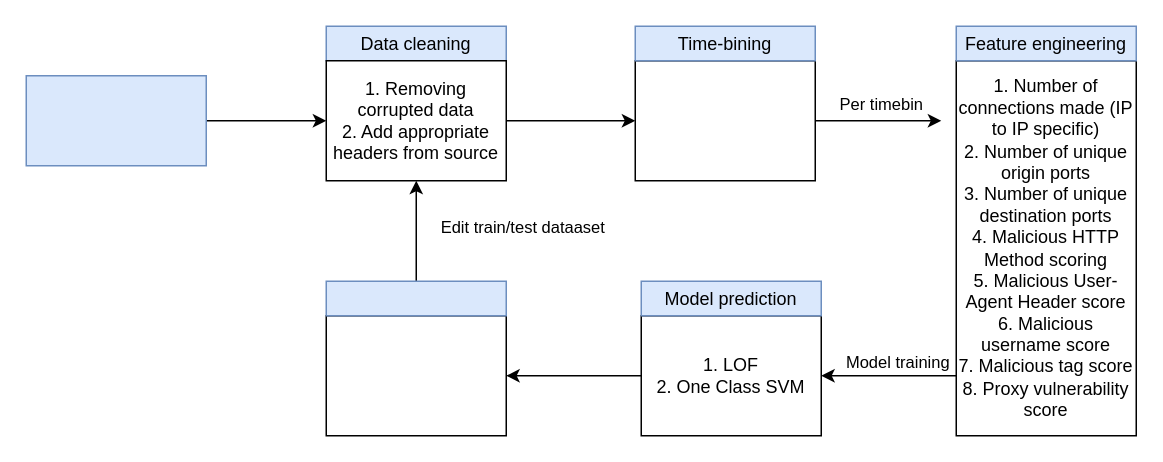
Image size: 1163x462. Some labels were removed from this diagram. The shapes that lost their labels are listed below. From the top down, each one's centre as x and y in pixels, then its label:
[115,120]: http.logs
[724,120]: 1. Split data into 5 minute time bins
[415,298]: Data evaluation
[415,375]: From flagged IP addresses, we improve results by improving train dataset
